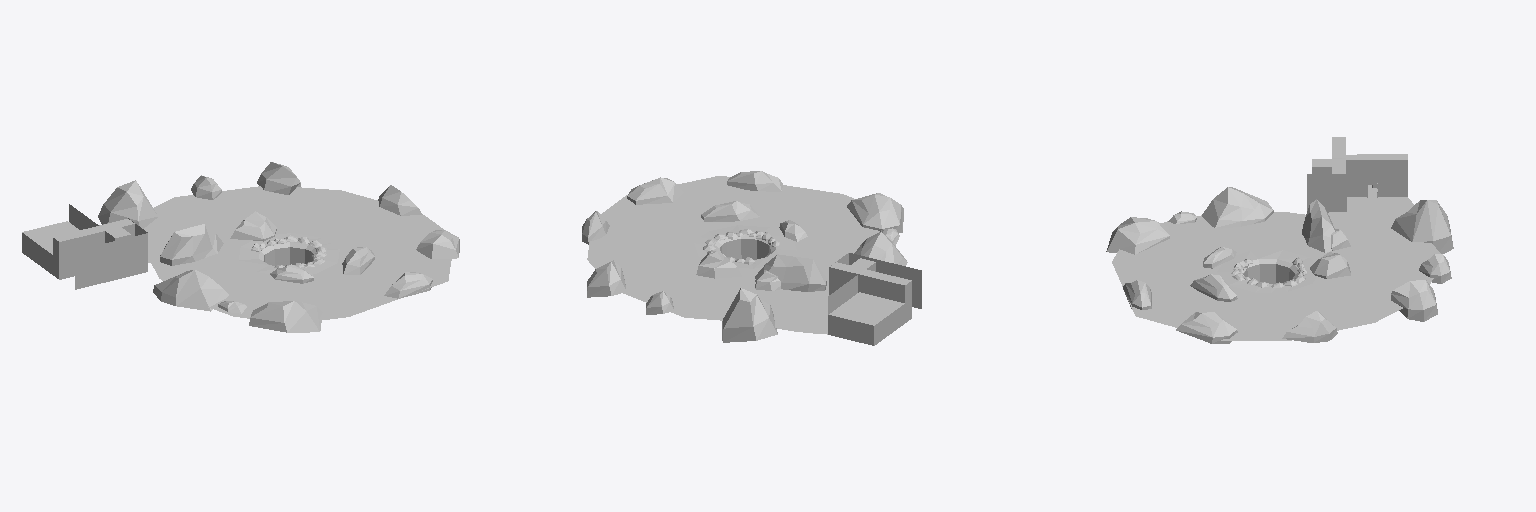
Rendered from visuals.obj.
The picture shows the model from 3 angles: view 1: azimuth 30°, elevation 25°; view 2: azimuth 150°, elevation 25°; view 3: azimuth 270°, elevation 25°; orthographic projection.
Visible parts, largest first — view 1: visual, visual.002; view 2: visual, visual.002; view 3: visual, visual.002.
Part boxes in pixels (left/top/right/bottom): visual: left=22, top=186, right=451, bottom=320; visual.002: left=98, top=162, right=459, bottom=332; visual: left=587, top=176, right=921, bottom=345; visual.002: left=582, top=171, right=907, bottom=342; visual: left=1112, top=137, right=1440, bottom=340; visual.002: left=1106, top=187, right=1453, bottom=343.
Bounding box in the file's own units: 61.48 × 12.5 × 54.33.